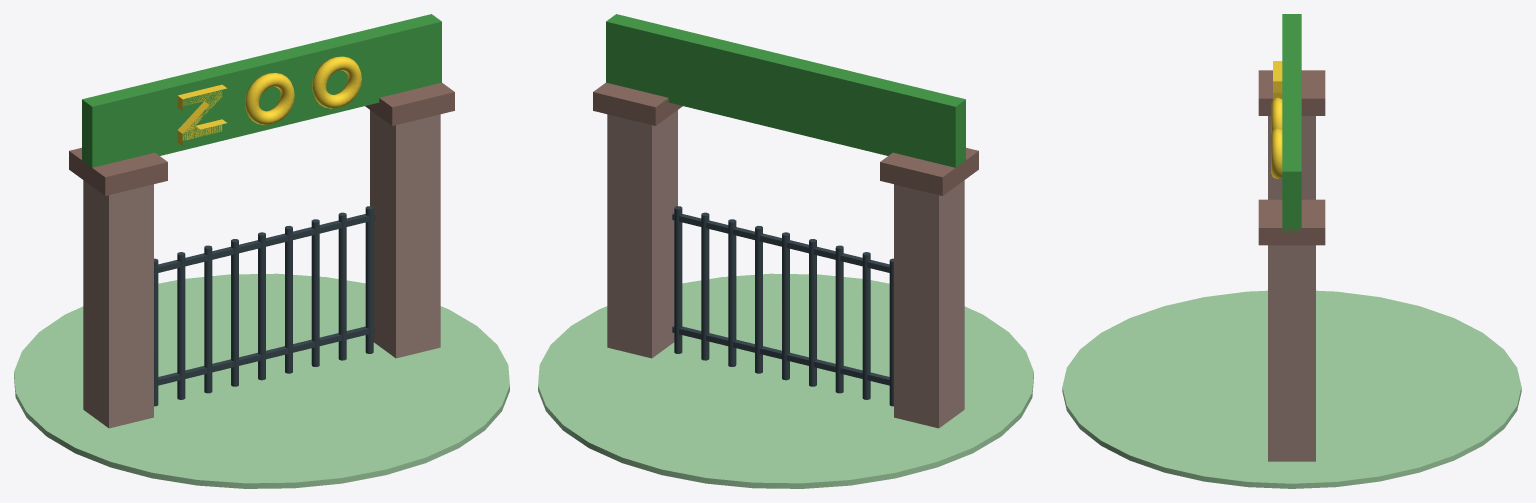
Rendered from zoo.glb.
3 renders of one model, left to right at view 1: azimuth 30°, elevation 25°; view 2: azimuth 150°, elevation 25°; view 3: azimuth 270°, elevation 25°, orthographic. The views are drawn at different scales.
Visible parts, largest first — view 1: zoo; view 2: zoo; view 3: zoo.
Part boxes in pixels (x1=…): zoo: x1=14, y1=14, x2=509, y2=488; zoo: x1=538, y1=14, x2=1033, y2=488; zoo: x1=1062, y1=14, x2=1521, y2=488.
Bounding box in the file's own units: 4.8 × 3.45 × 4.8.
